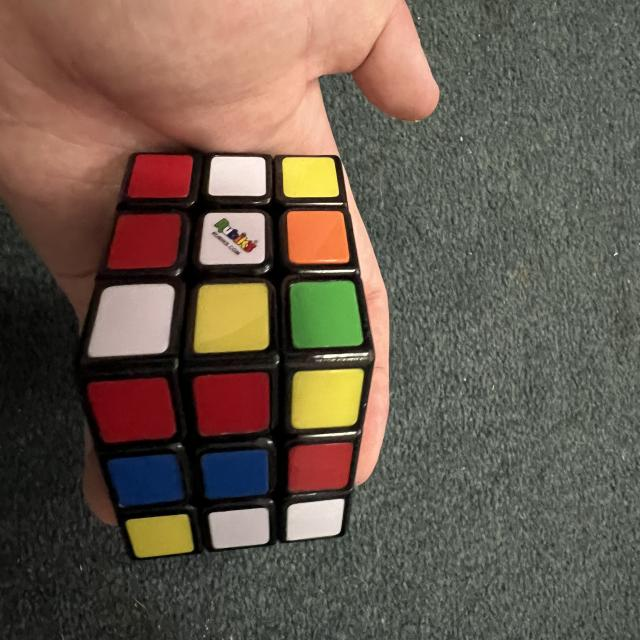blue: (106, 451, 185, 509), (200, 448, 271, 500)
center: (200, 448, 271, 500), (199, 212, 265, 265)
green: (288, 279, 363, 349)
orange: (286, 210, 350, 265)
red: (86, 375, 177, 446), (192, 371, 273, 437), (107, 214, 182, 270), (286, 442, 355, 493), (128, 155, 193, 198)
white: (86, 283, 177, 358), (199, 212, 265, 265), (207, 506, 273, 550), (282, 498, 348, 541), (208, 156, 267, 197)
yellow: (192, 283, 270, 353), (288, 368, 367, 430), (124, 512, 195, 560), (282, 157, 339, 198)
